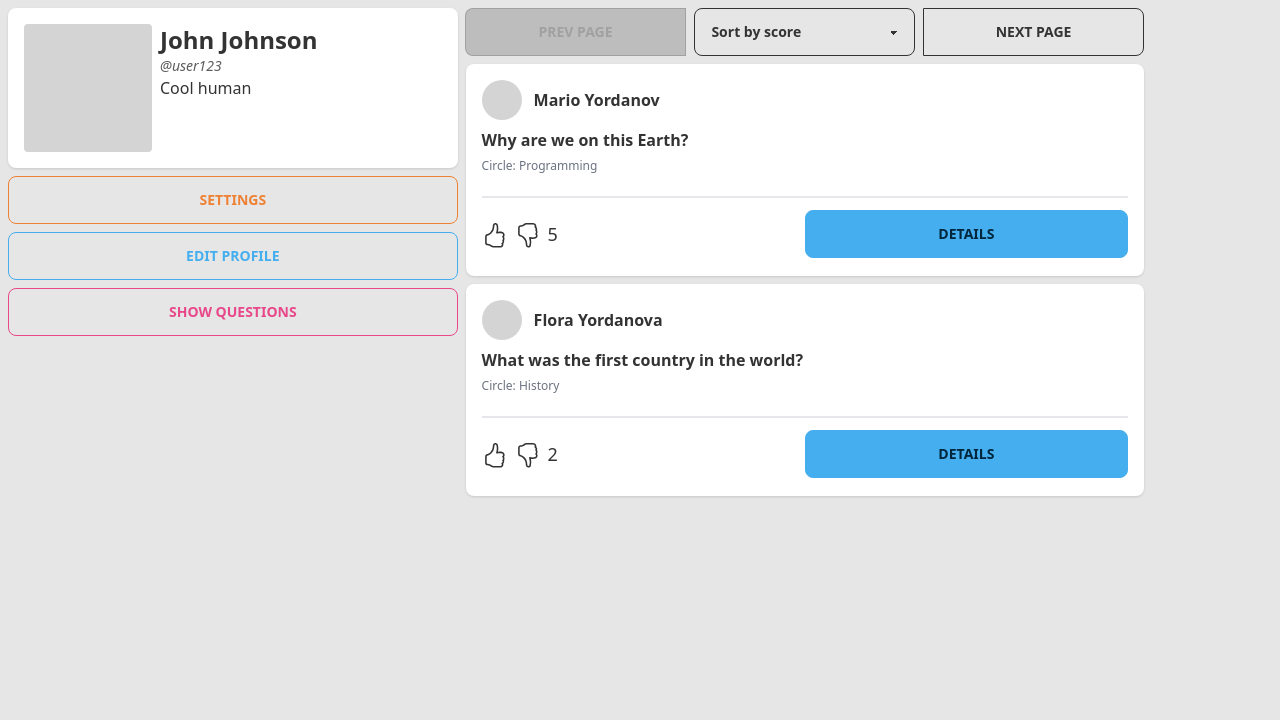
it: profile page › submiting edit form changes data on page
# Open edit profile
Step 1. Click the button "Edit Profile" → (233, 256), box [8, 232, 458, 280]
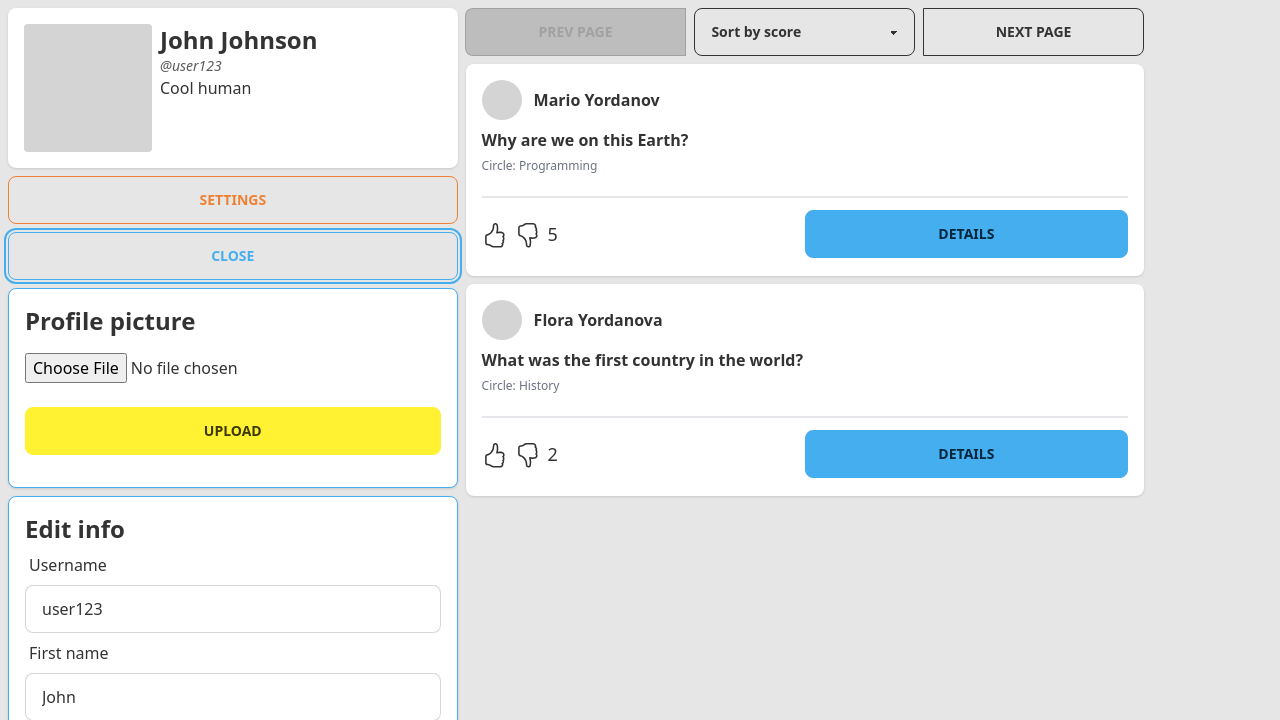
# Select first name and change it to 'Peter'
Step 2. Clear the field labelled "First name" → (233, 697), box [25, 673, 441, 719]
(page scrolled)
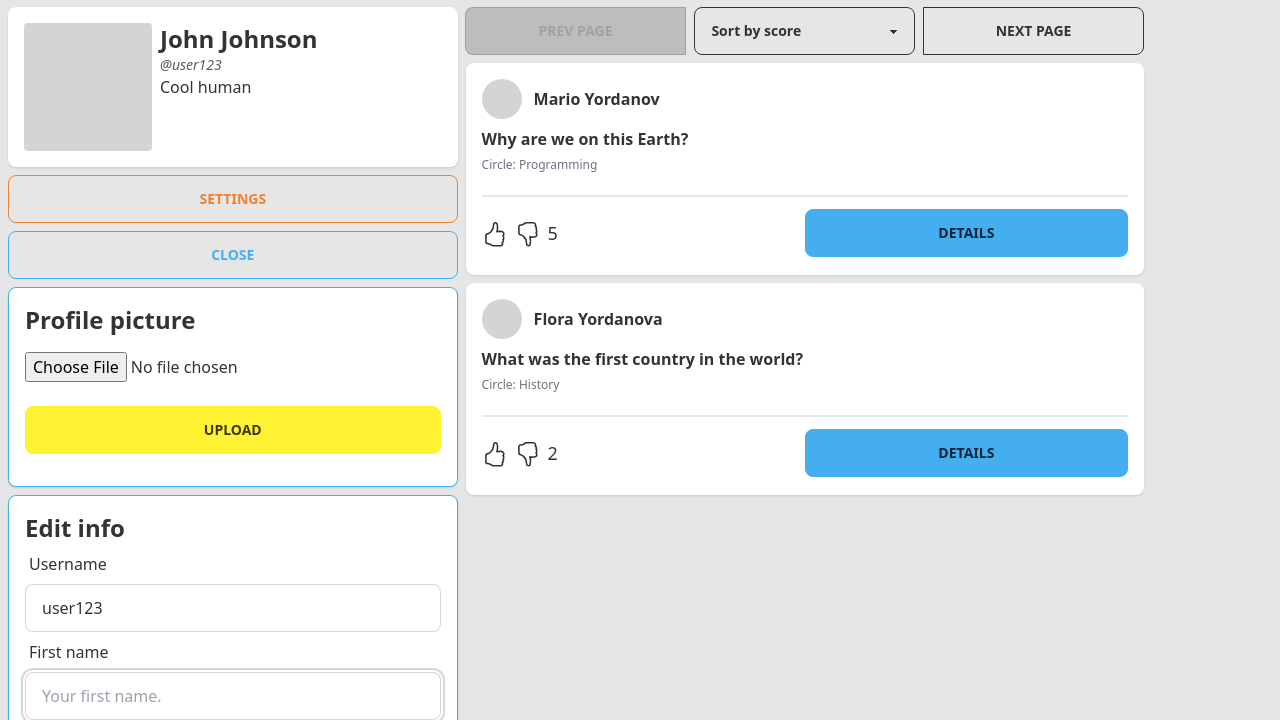
Step 3. Type "Peter" into the field labelled "First name" → (233, 696), box [25, 672, 441, 719]
(page scrolled)
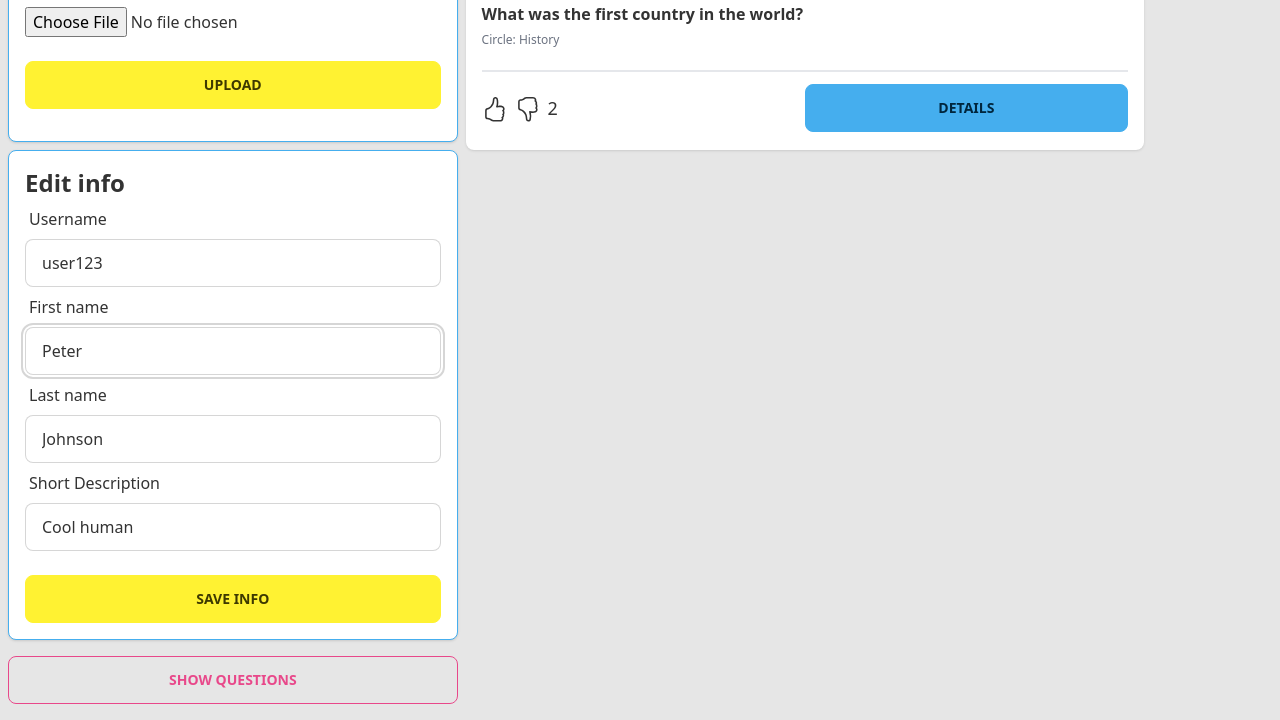
Step 4. Click the button "Save info" → (233, 599), box [25, 575, 441, 623]
(page scrolled)
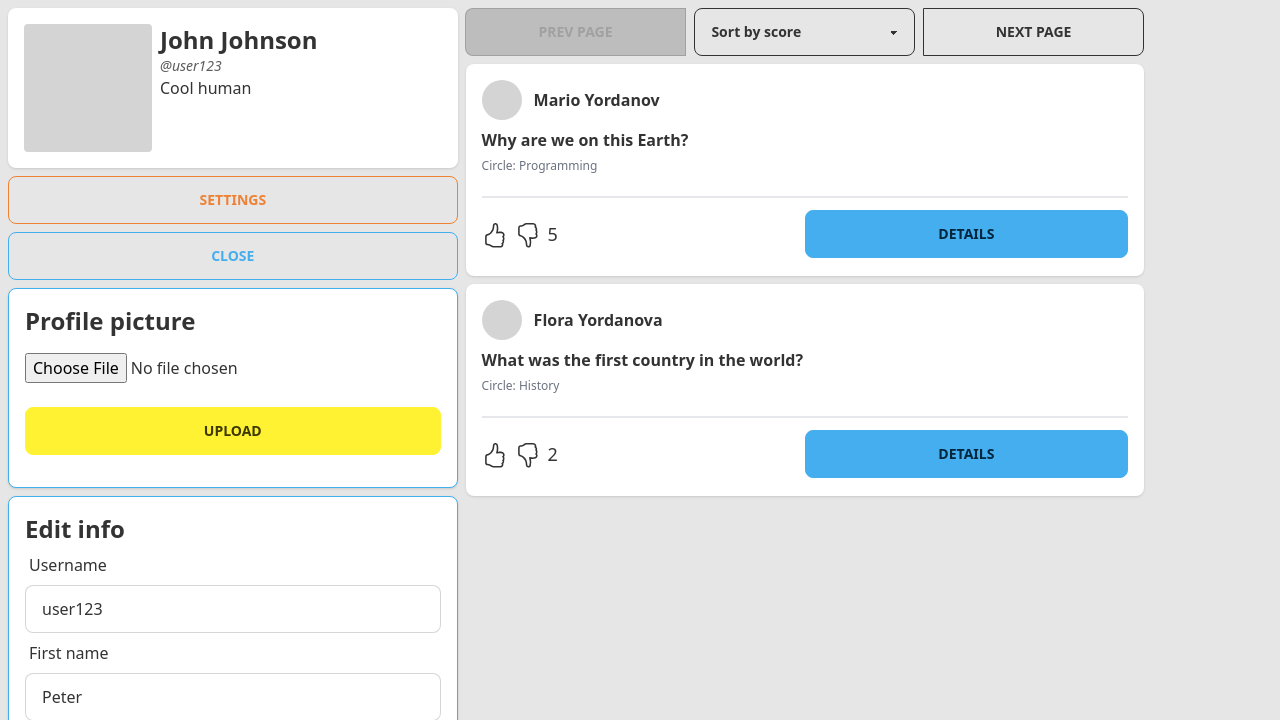
# Close form
Step 5. Click the button named "edit profile" → (233, 256), box [8, 232, 458, 280]
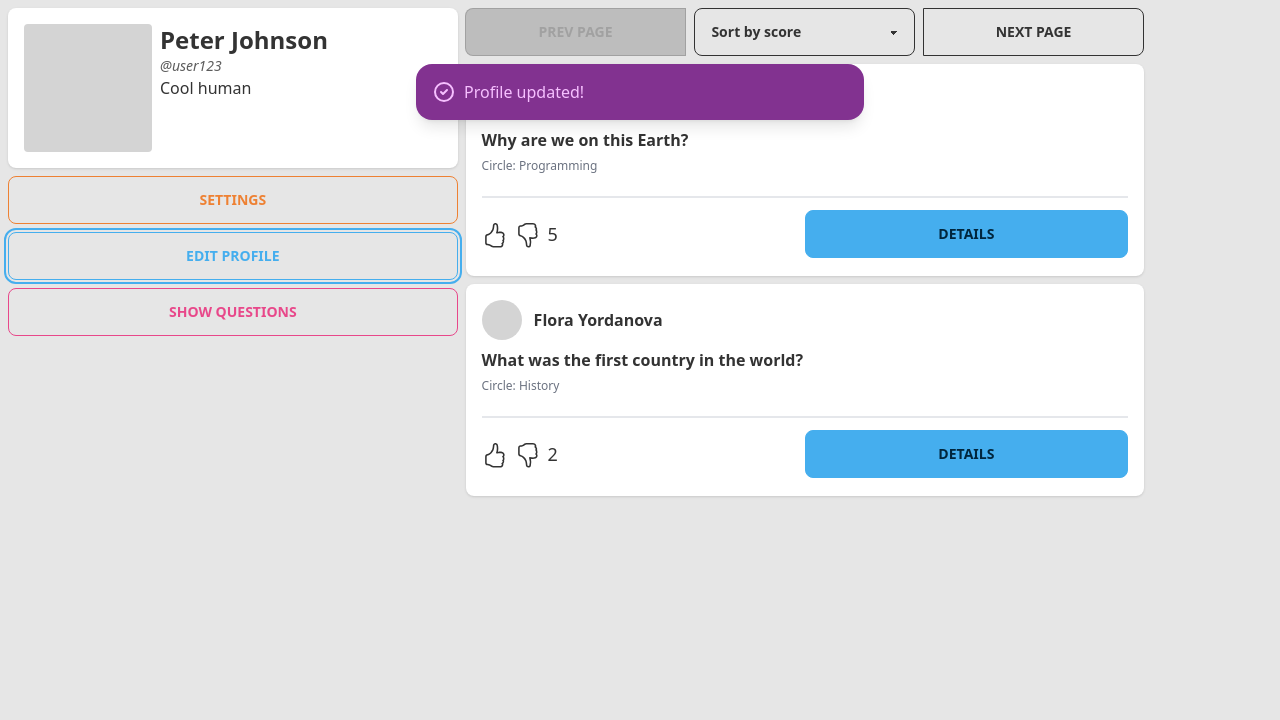
Check: the heading "Peter Johnson" is shown, box [160, 24, 328, 56]
